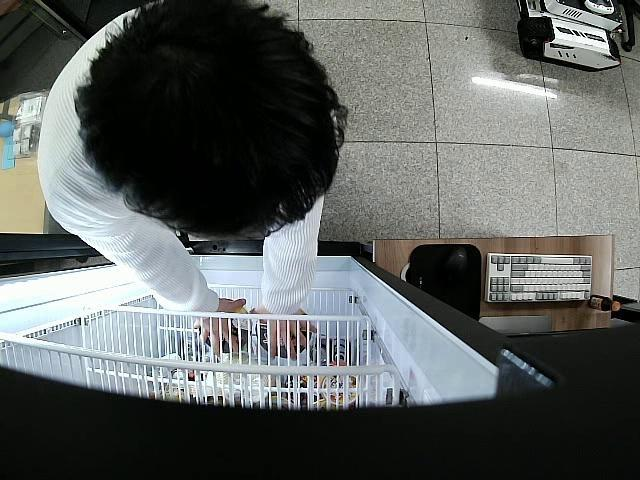07_buldak_L: (253, 319, 314, 360), (205, 309, 253, 352)
